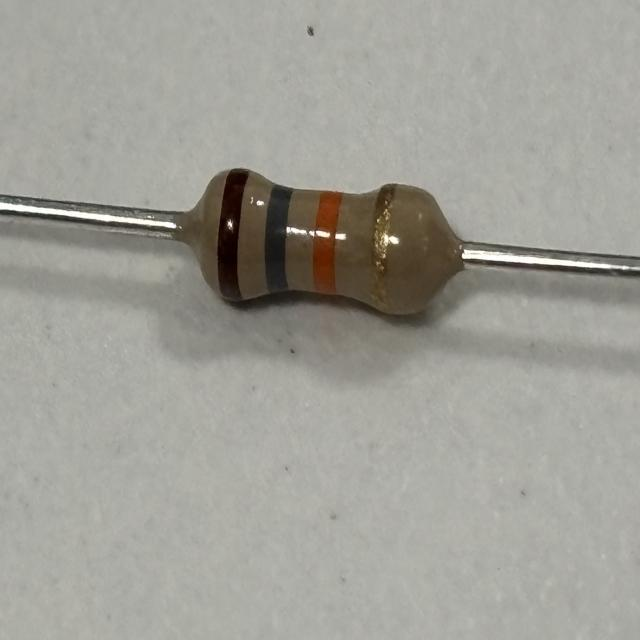resistor: (202, 164, 442, 323)
